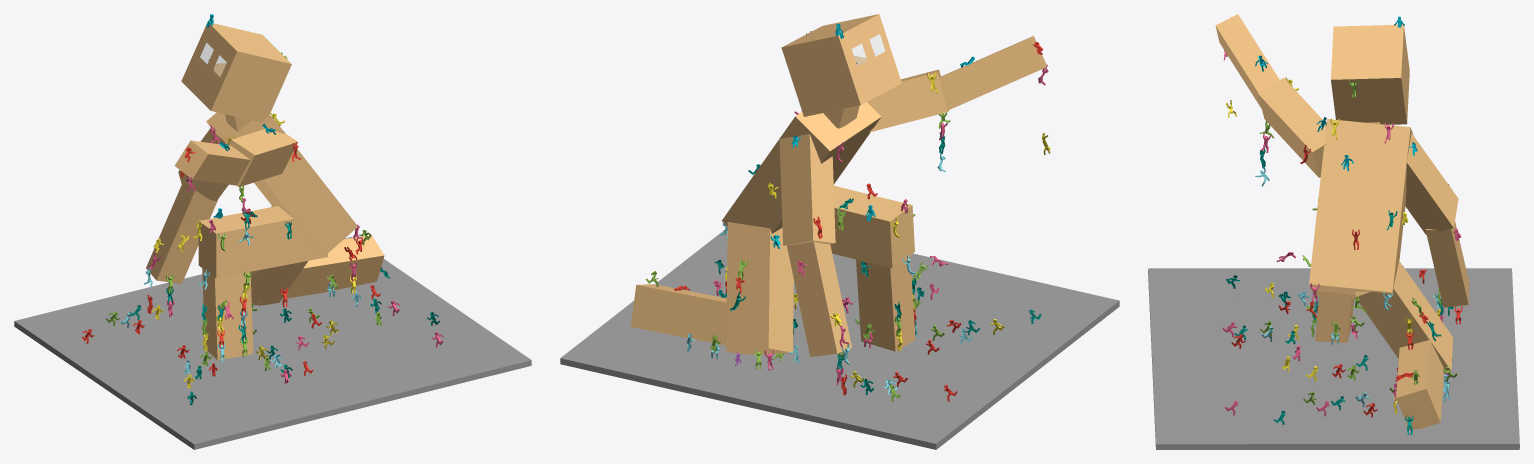
3 renders of one model, left to right at view 1: azimuth 30°, elevation 25°; view 2: azimuth 150°, elevation 25°; view 3: azimuth 270°, elevation 25°, orthographic. The views are drawn at different scales.
Visible parts, largest first — view 1: Node; view 2: Node; view 3: Node.
Boxes of the visible parts, box(x1,y1,x2,y2) form: Node: box(14, 14, 531, 449); Node: box(560, 14, 1119, 449); Node: box(1148, 14, 1519, 449).
Size of the model in its own units: 9.61 by 8.44 by 8.53.
